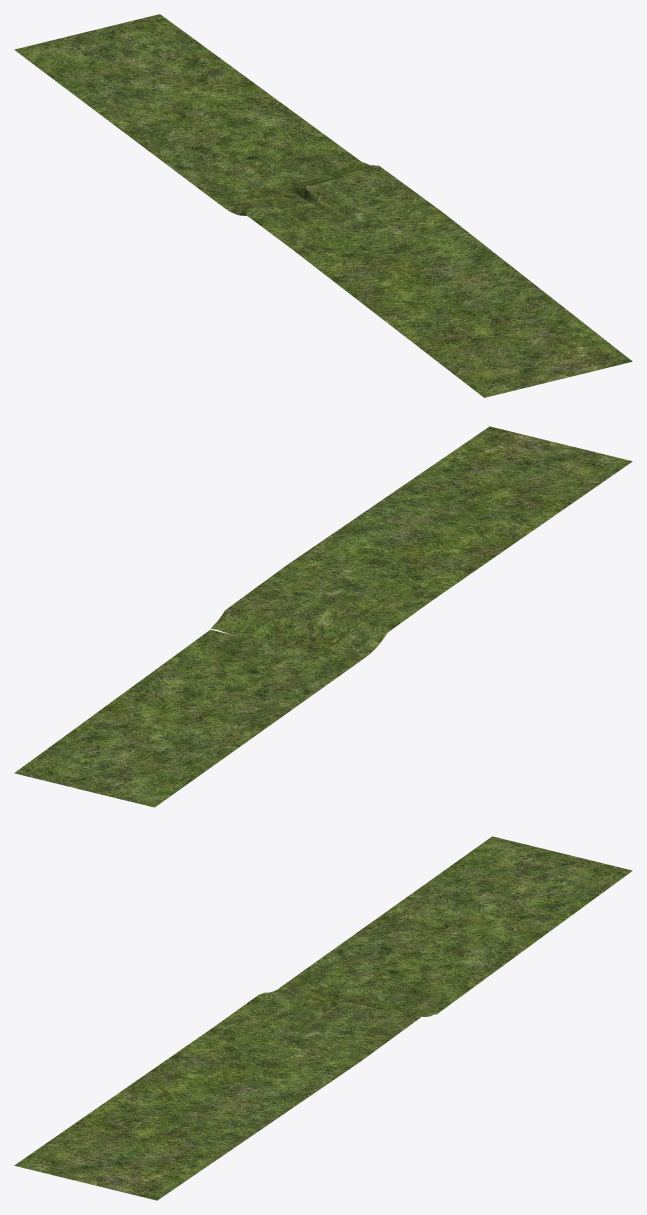
File: terrain.obj
The picture shows the model from 3 angles, top to bottom: view 1: azimuth 30°, elevation 25°; view 2: azimuth 150°, elevation 25°; view 3: azimuth 330°, elevation 25°; orthographic projection. The views are drawn at different scales.
Parts seen in each view (by area): view 1: default; view 2: default; view 3: default.
Boxes of the visible parts, left/top/right/bottom form: default: left=14, top=14, right=632, bottom=397; default: left=14, top=426, right=632, bottom=807; default: left=14, top=836, right=632, bottom=1200.
Bounding box in the file's own units: 190 × 10.44 × 1000.
